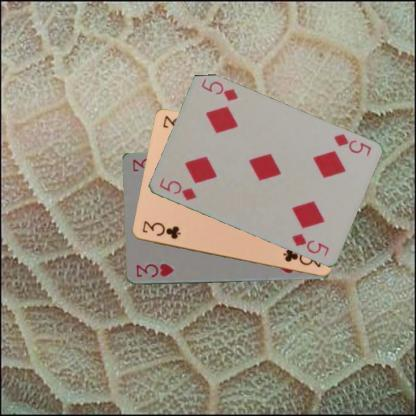3c: (139, 218, 182, 241)
3h: (134, 261, 176, 279)
5d: (156, 175, 198, 202), (330, 132, 373, 158)
